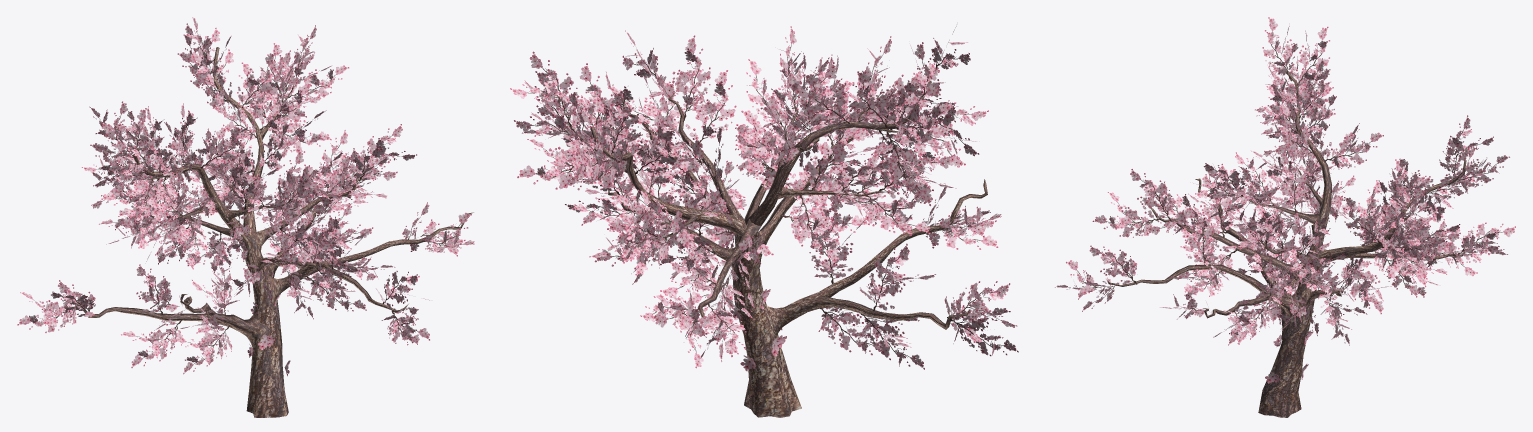
Rendered from sakura-a.glb.
3 renders of one model, left to right at view 1: azimuth 30°, elevation 25°; view 2: azimuth 150°, elevation 25°; view 3: azimuth 270°, elevation 25°, orthographic. The views are drawn at different scales.
Visible parts, largest first — view 1: Object002_sakura_branch_new01_1Mat_0, Object001_mossybark02_0Mat_0; view 2: Object002_sakura_branch_new01_1Mat_0, Object001_mossybark02_0Mat_0; view 3: Object002_sakura_branch_new01_1Mat_0, Object001_mossybark02_0Mat_0.
Part boxes in pixels (<box>): Object002_sakura_branch_new01_1Mat_0: <box>17,17,474,376</box>; Object001_mossybark02_0Mat_0: <box>61,47,473,417</box>; Object002_sakura_branch_new01_1Mat_0: <box>510,26,1018,371</box>; Object001_mossybark02_0Mat_0: <box>566,80,987,417</box>; Object002_sakura_branch_new01_1Mat_0: <box>1055,17,1515,383</box>; Object001_mossybark02_0Mat_0: <box>1107,70,1466,417</box>.
Bounding box in the file's own units: 48.56 × 39.44 × 50.97.
2 materials, 2 textured.
